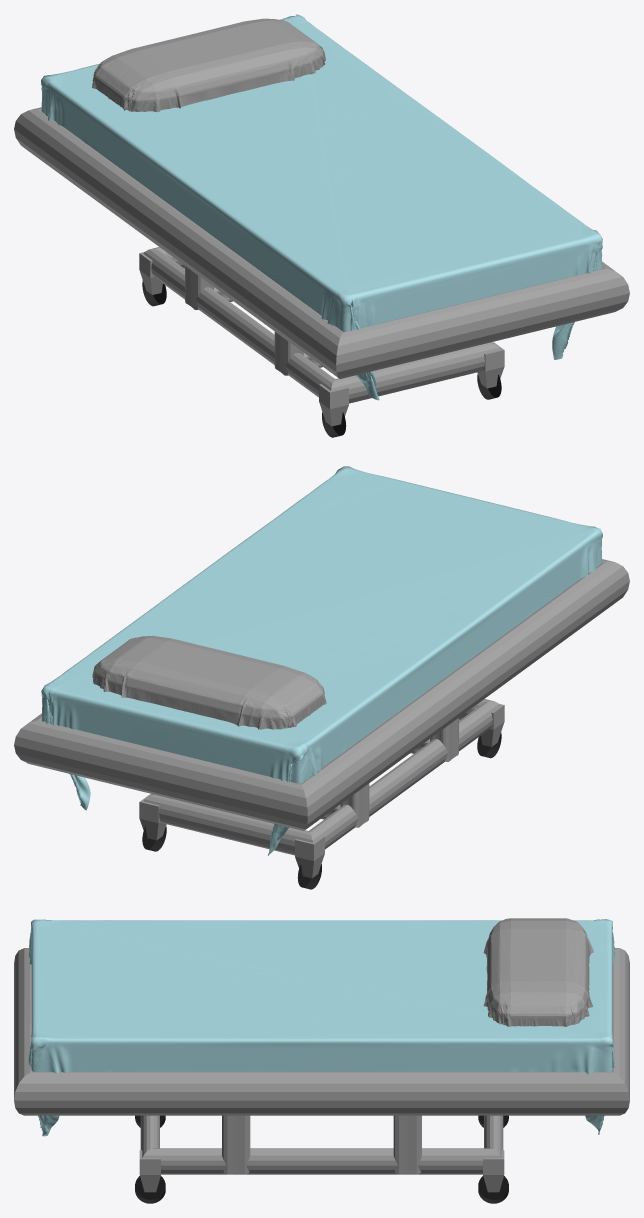
File: hospitalBed.fbx
3 views of the same model, one above another, from view 1: azimuth 30°, elevation 25°; view 2: azimuth 150°, elevation 25°; view 3: azimuth 270°, elevation 25° (orthographic). The views are drawn at different scales.
Visible parts, largest first — view 1: Matress, Frame, Pillow, Cube.002, Cube, Cube.003; view 2: Matress, Frame, Pillow, Cube.003, Cube.001, Cube.002; view 3: Matress, Frame, Pillow, Cube, Cube.001.
Part boxes in pixels (x1,y1,x2,y2): Matress: (41,14,602,400); Frame: (14,107,629,403); Pillow: (92,18,325,112); Cube.002: (319,384,348,437); Cube: (477,342,504,399); Cube.003: (139,252,169,306); Matress: (41,466,602,855); Frame: (14,559,629,855); Pillow: (92,635,326,729); Cube.003: (295,836,324,889); Cube.001: (139,794,166,851); Cube.002: (474,704,504,758); Matress: (28,919,615,1136); Frame: (14,948,629,1174); Pillow: (483,918,593,1026); Cube: (135,1150,165,1203); Cube.001: (478,1150,508,1203).
Bounding box in the file's own units: 378 × 271 × 718.
